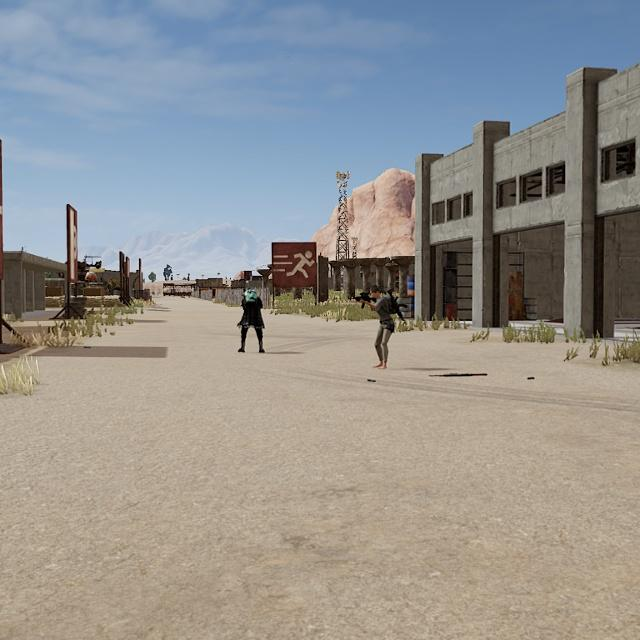head: (369, 285, 383, 301)
people: (369, 285, 396, 370), (237, 291, 266, 354)
